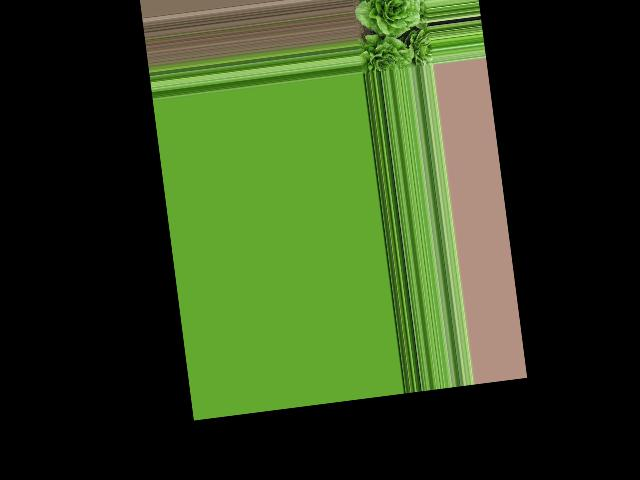lettuce: (359, 34, 416, 74)
